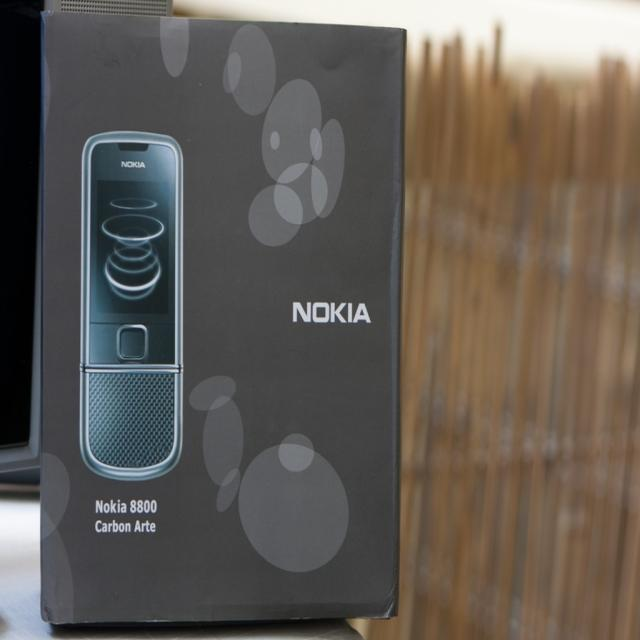Mobile-phone: (73, 114, 180, 503)
